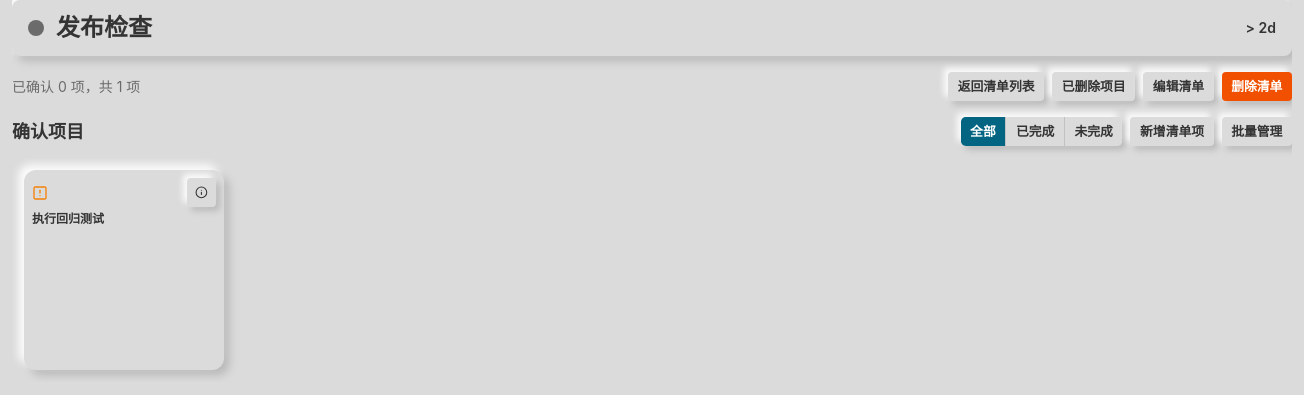
Scenario: ChecklistDetailView › shows a filter specific empty state
Click the button "已完成". click: {"x": 1035, "y": 132}
box: [1005,117,1064,146]
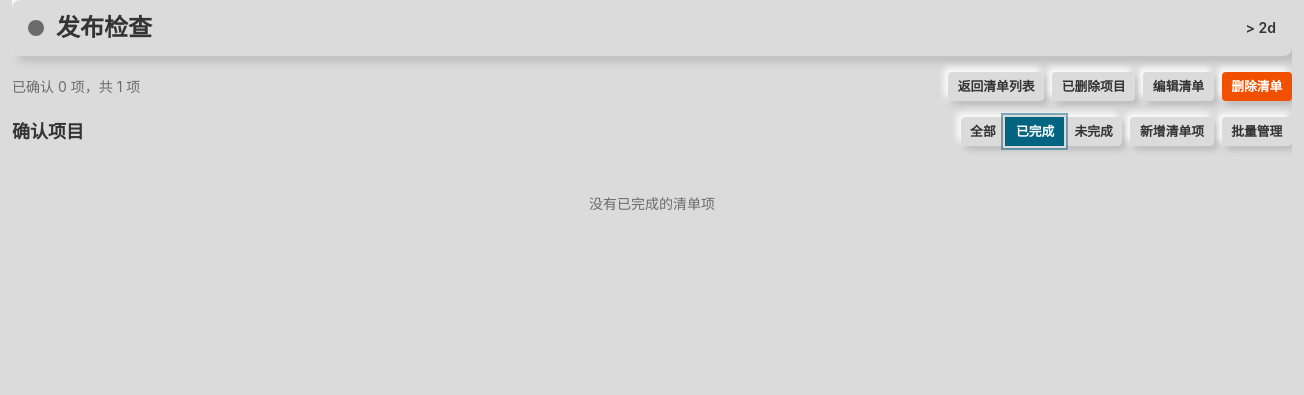
Check: the message reads "没有已完成的清单项", box [589,195,715,212]
